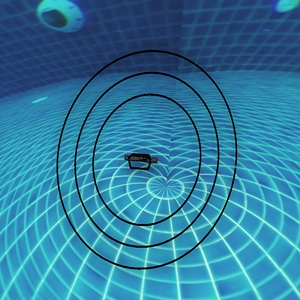circle: (31, 34, 265, 283)
submarine: (126, 149, 156, 170)
